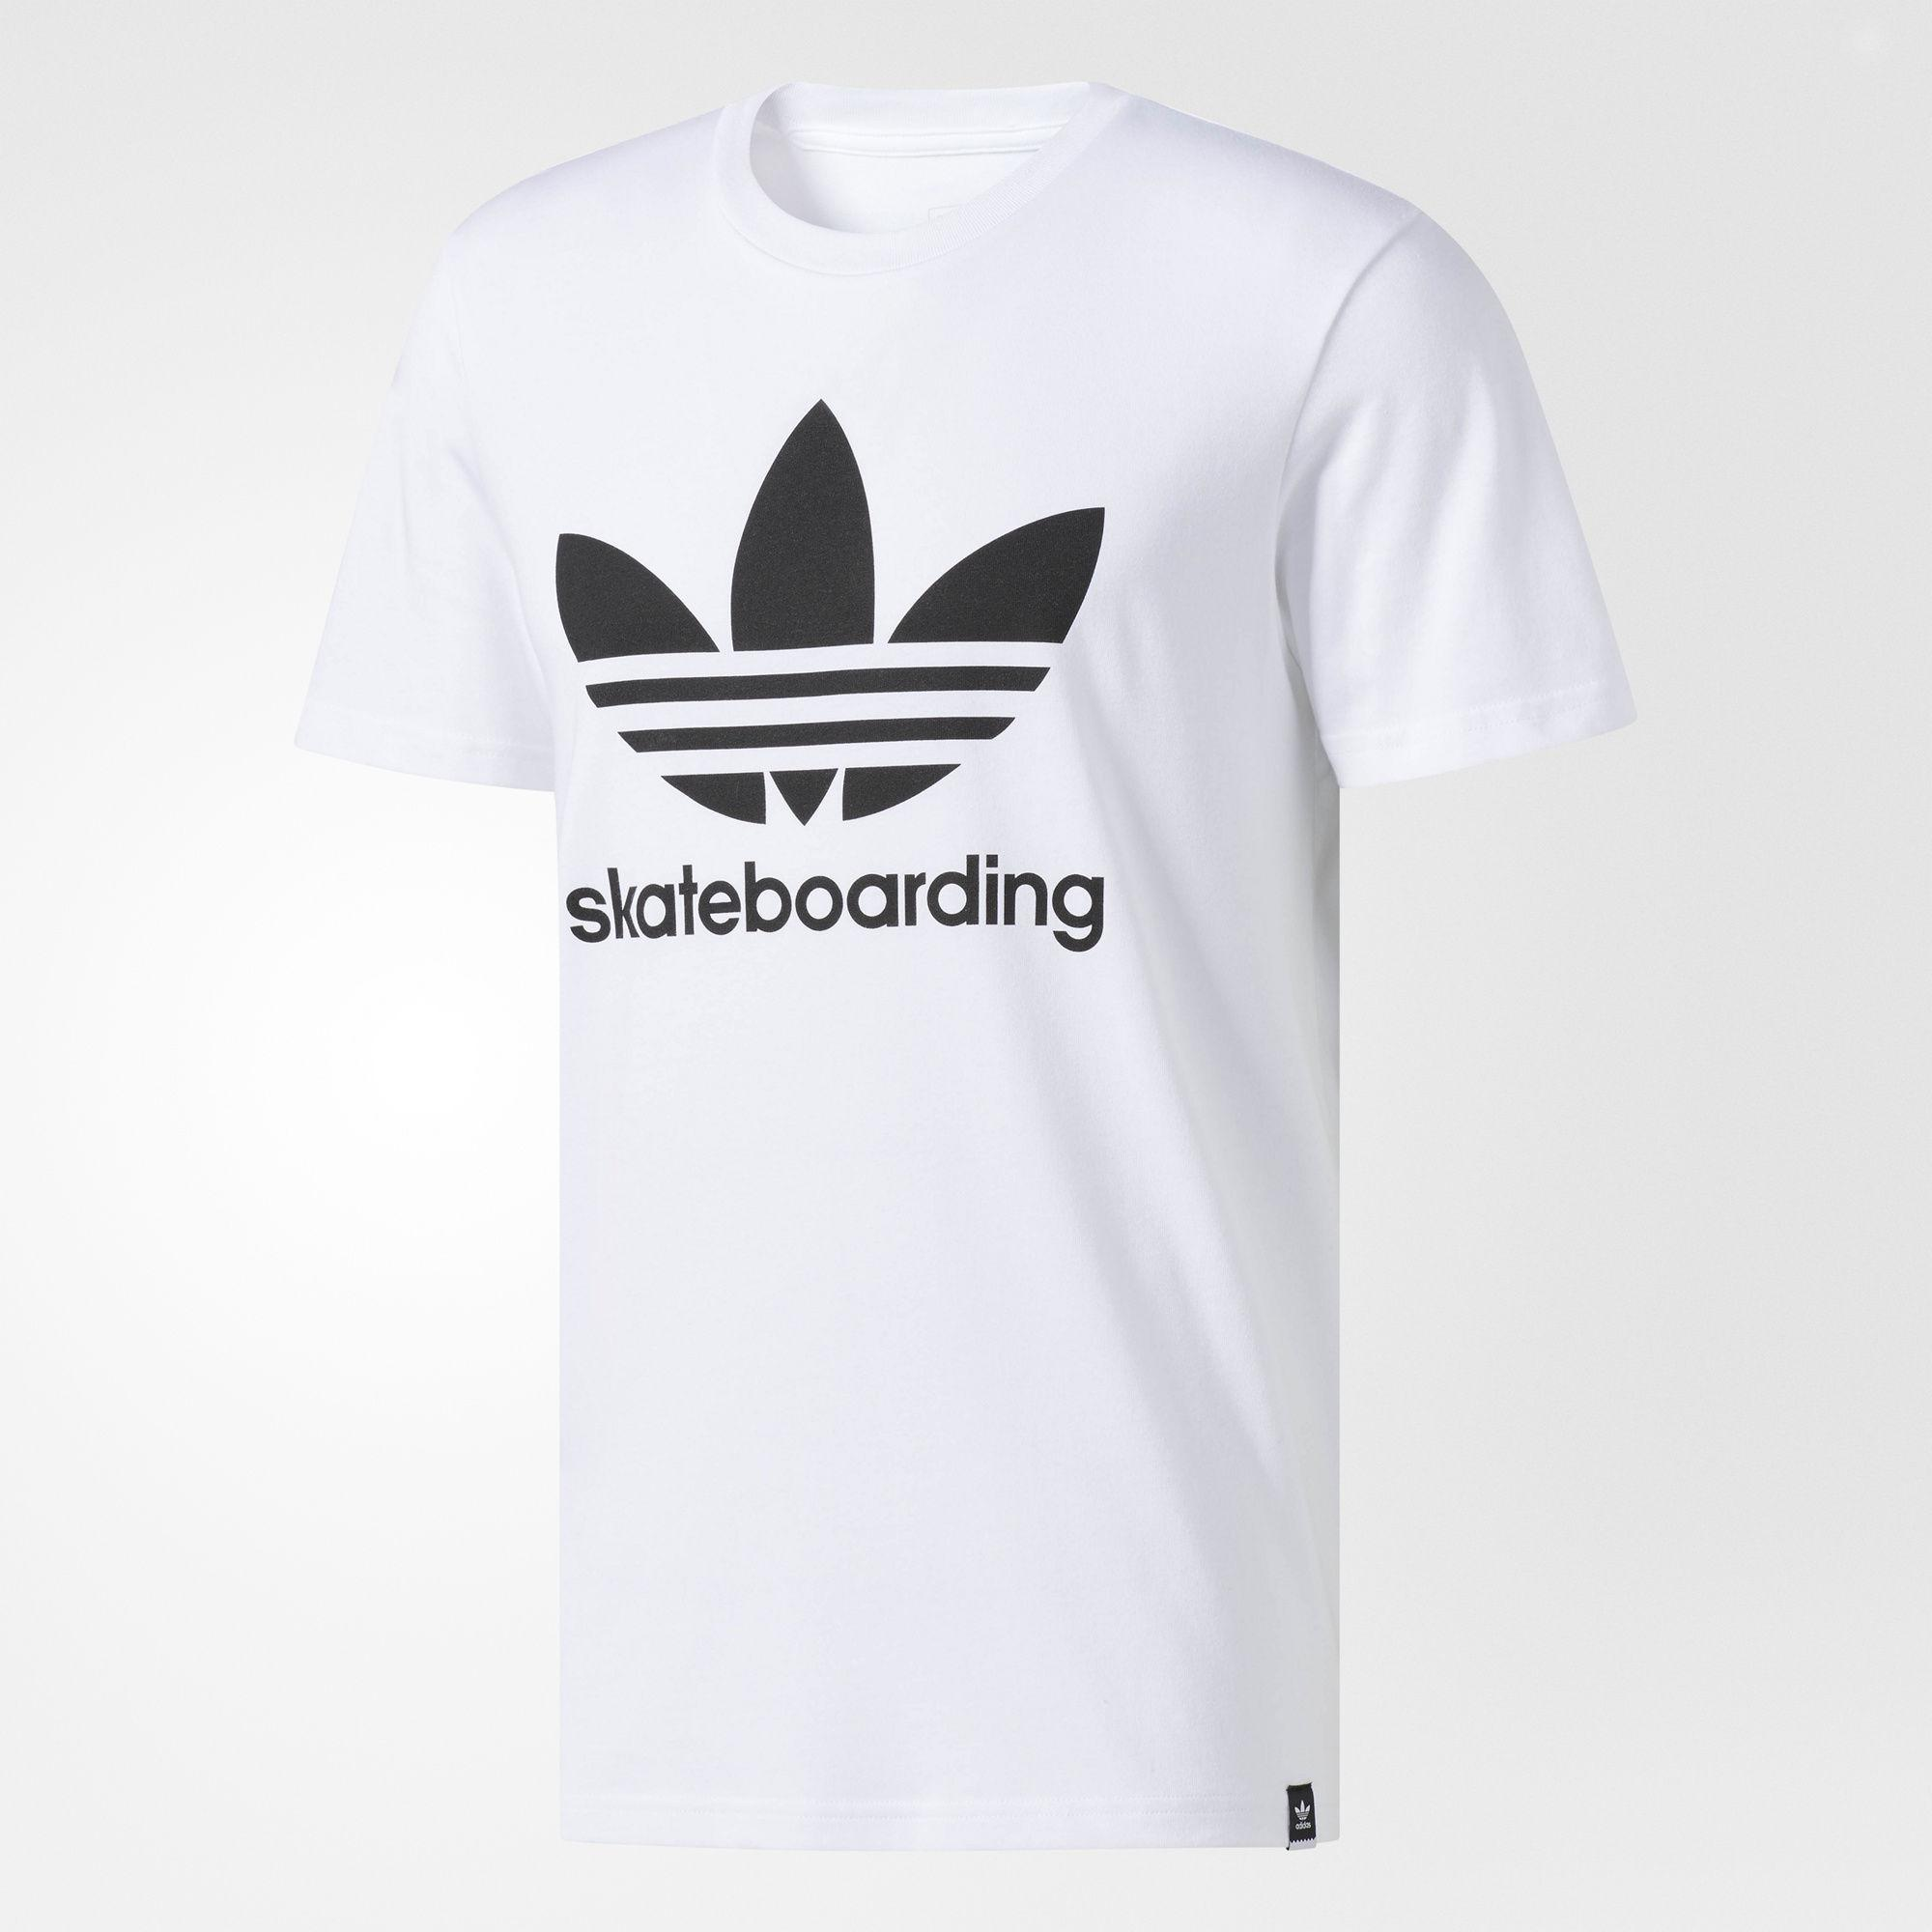teeshirt: (265, 55, 1670, 1932)
